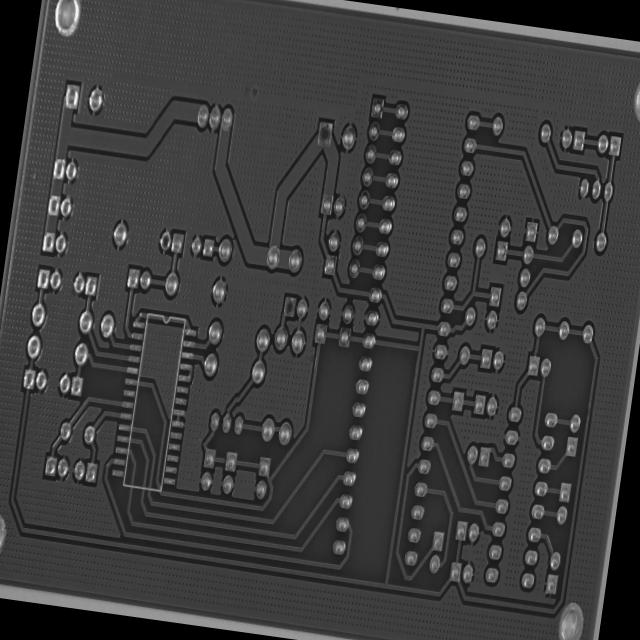missing_hole: (316, 118, 336, 146), (282, 292, 298, 320), (157, 226, 173, 254)
